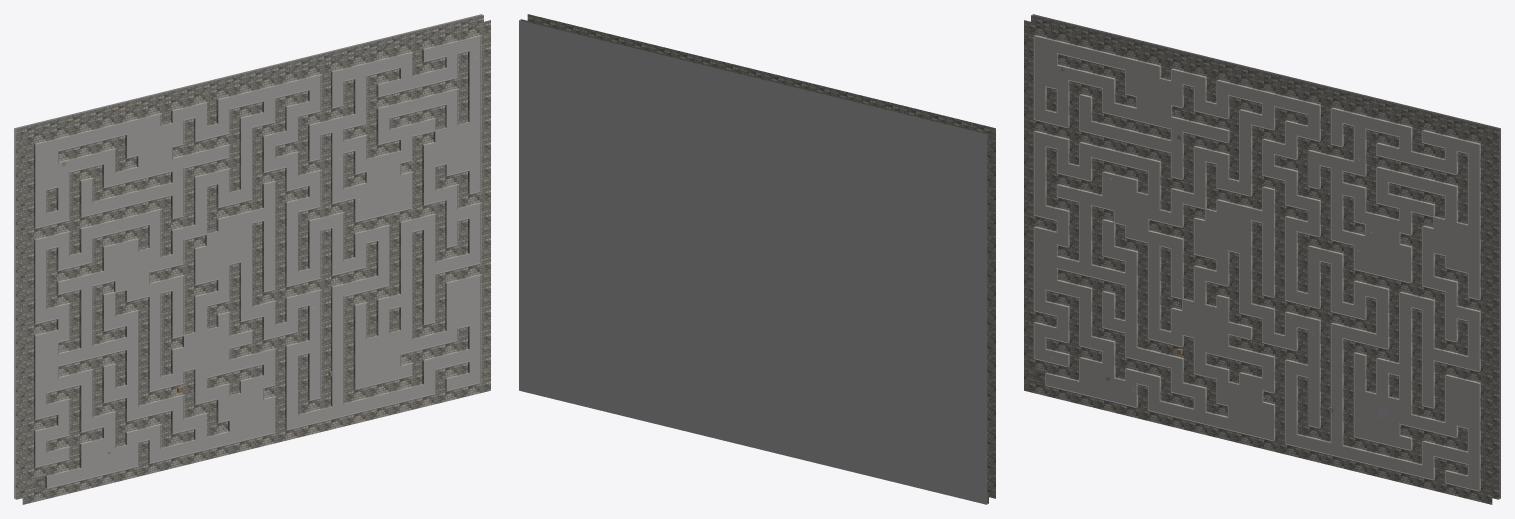
File: dungeon.glb
3 renders of one model, left to right at view 1: azimuth 30°, elevation 25°; view 2: azimuth 150°, elevation 25°; view 3: azimuth 330°, elevation 25°, orthographic.
Parts seen in each view (by area): view 1: Floor, Walls, Ceiling; view 2: Ceiling, Walls; view 3: Floor, Walls, Ceiling.
Part boxes in pixels (left/top/right/bottom): Floor: left=35, top=35, right=481, bottom=488; Walls: left=15, top=15, right=490, bottom=504; Ceiling: left=14, top=14, right=482, bottom=498; Ceiling: left=519, top=20, right=987, bottom=504; Walls: left=520, top=14, right=995, bottom=503; Floor: left=1033, top=35, right=1479, bottom=491; Walls: left=1024, top=15, right=1499, bottom=504; Ceiling: left=1032, top=14, right=1500, bottom=498.
Bounding box in the file's own units: 82 × 62 × 3.1.
15 materials, 1 textured.
